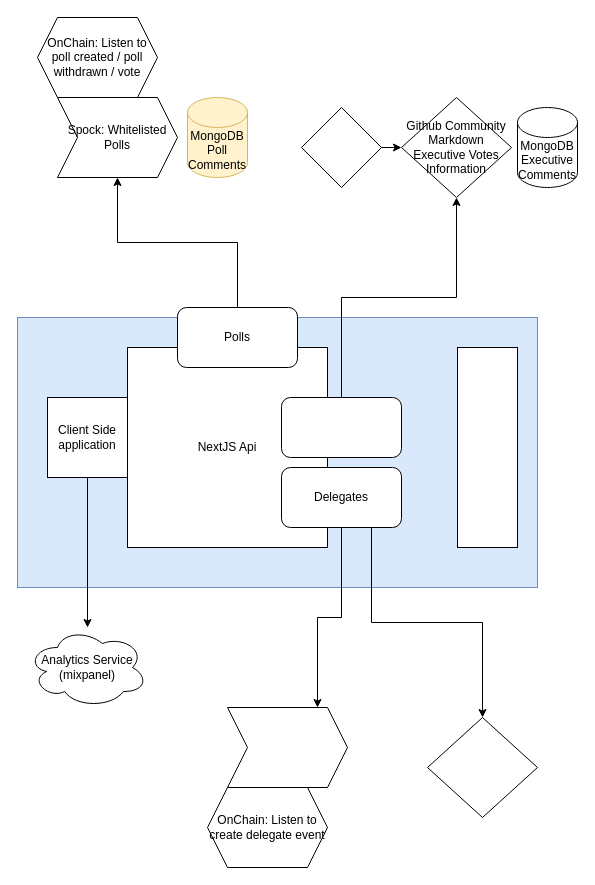
Image size: 595x885. Some labels were removed from this diagram. Each missing label, with the centre of its shape:
"Active Proposals JSON Github" belongs at point (341, 147).
"Executives" belongs at point (341, 427).
"Filesystem Cache" belongs at point (487, 447).
"Github Community Markdown Delegates Information" belongs at point (482, 767).
"Spock: Contract Delegates" belongs at point (287, 747).
